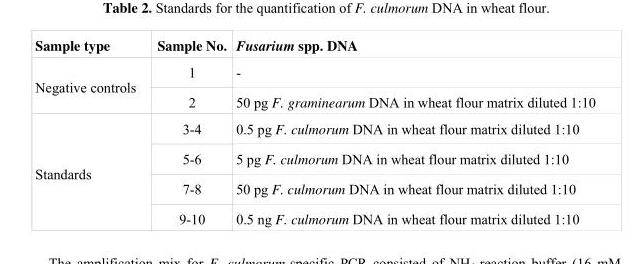table: (34, 34, 594, 227)
table column: (230, 34, 594, 227), (34, 34, 145, 227), (145, 34, 230, 227)
table column header: (34, 34, 594, 59)
table row: (34, 143, 594, 173), (34, 173, 594, 203), (34, 114, 594, 143), (34, 86, 594, 114), (34, 59, 594, 86), (34, 34, 594, 59), (34, 203, 594, 227)
table spanning cell: (34, 114, 145, 227), (34, 59, 145, 114)
